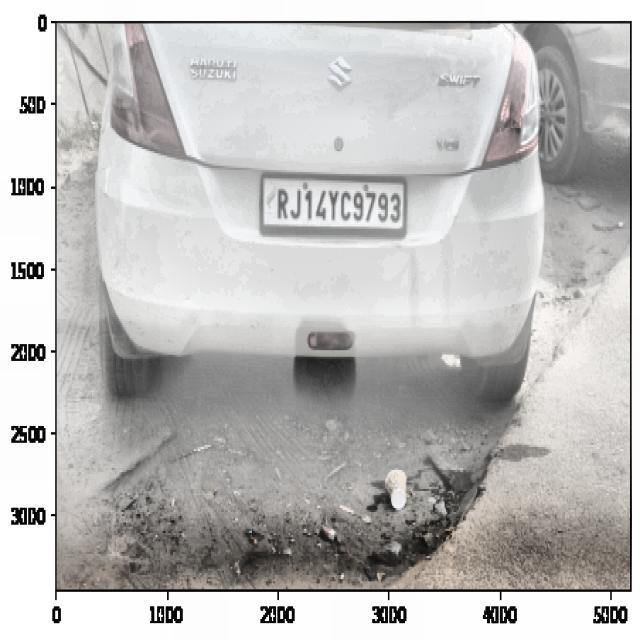license_plate: (270, 177, 407, 234)
